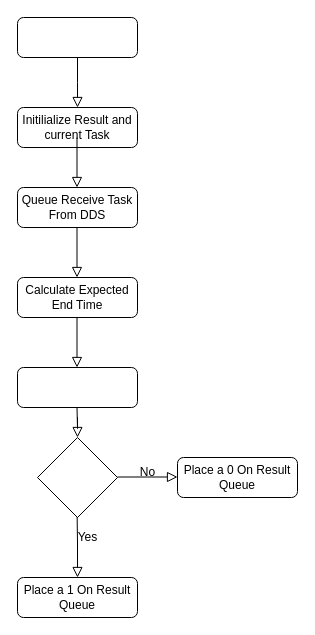
Some shapes in this 315 by 635 pixel diagram are drawn without their labels. Each missing label, with the centre of its shape:
"Start User Defined" goes at point 77,37.
"Task Completed?" goes at point 77,477.
"Wait Until Expected End Time" goes at point 77,387.
